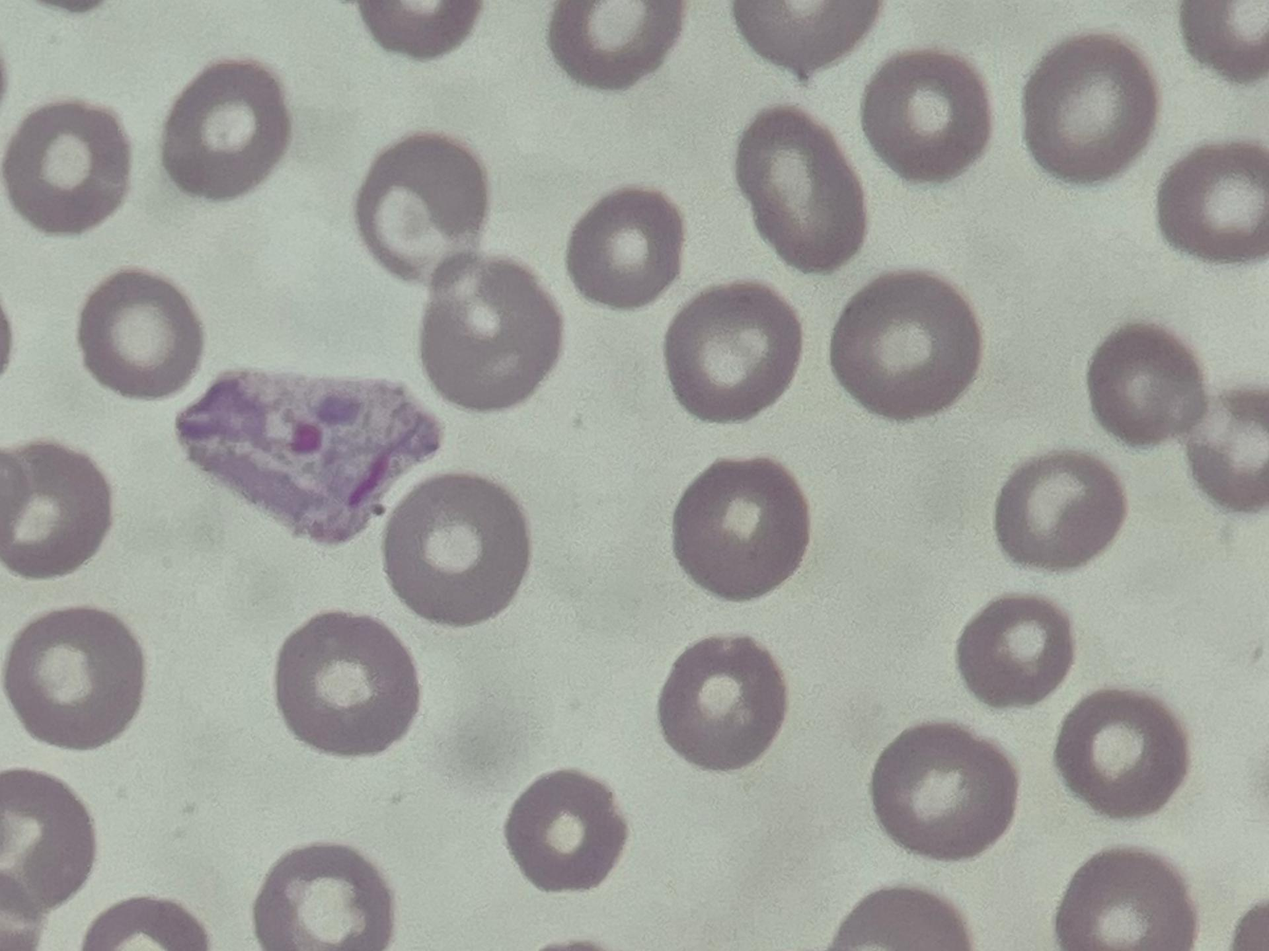Infected: (173, 367, 447, 551)
Uninfected: (420, 250, 565, 413), (737, 101, 868, 275), (383, 475, 527, 630), (829, 270, 980, 416), (871, 719, 1019, 863), (354, 131, 490, 287), (1023, 32, 1159, 185), (669, 456, 811, 601), (664, 283, 804, 427), (276, 613, 417, 754), (8, 607, 145, 750), (861, 45, 995, 184), (162, 60, 291, 203), (3, 98, 133, 238), (658, 635, 786, 771), (1056, 691, 1188, 818), (78, 266, 203, 400), (0, 437, 112, 582), (995, 451, 1128, 573), (1087, 316, 1210, 446), (253, 843, 395, 951), (565, 187, 687, 308), (507, 770, 625, 894), (957, 595, 1077, 713), (0, 769, 98, 911), (1056, 850, 1190, 951), (1158, 144, 1269, 263), (547, 0, 689, 91), (1185, 390, 1269, 512)
